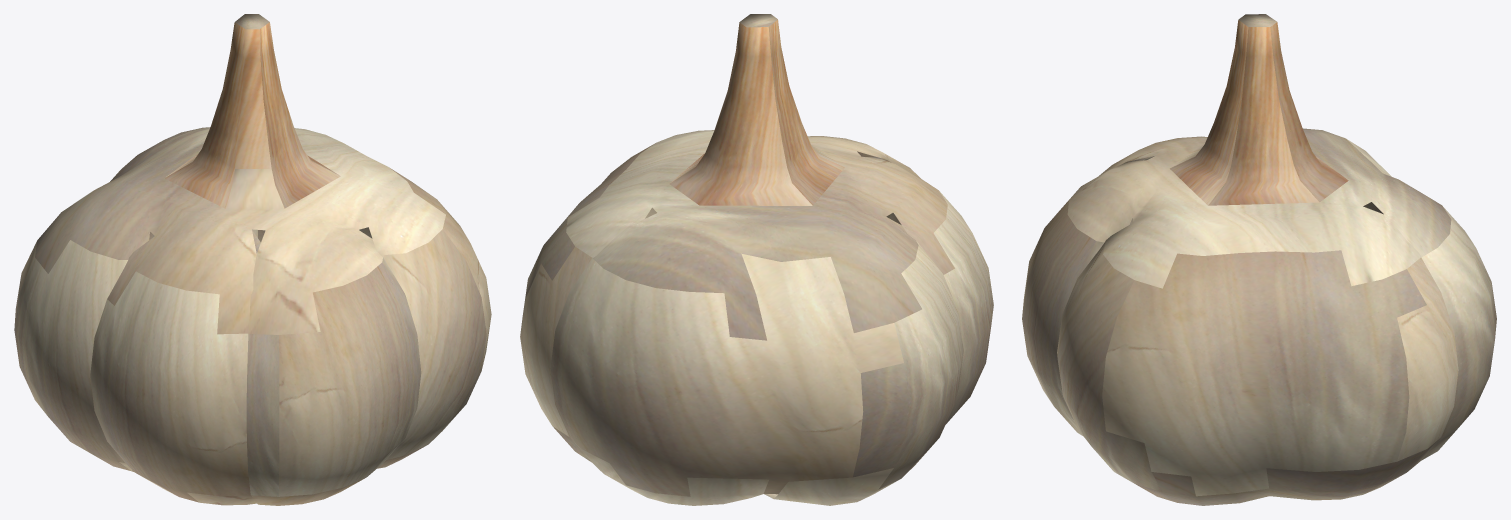
File: garlic.fbx
The picture shows the model from 3 angles, left to right: view 1: azimuth 30°, elevation 25°; view 2: azimuth 150°, elevation 25°; view 3: azimuth 270°, elevation 25°; orthographic projection.
Parts seen in each view (by area): view 1: Sphere; view 2: Sphere; view 3: Sphere.
Part boxes in pixels (box(x1,y1,x2,y2)): Sphere: box(14, 14, 491, 505); Sphere: box(520, 14, 993, 505); Sphere: box(1022, 14, 1496, 505).
Bounding box in the file's own units: 198 × 206 × 205.
